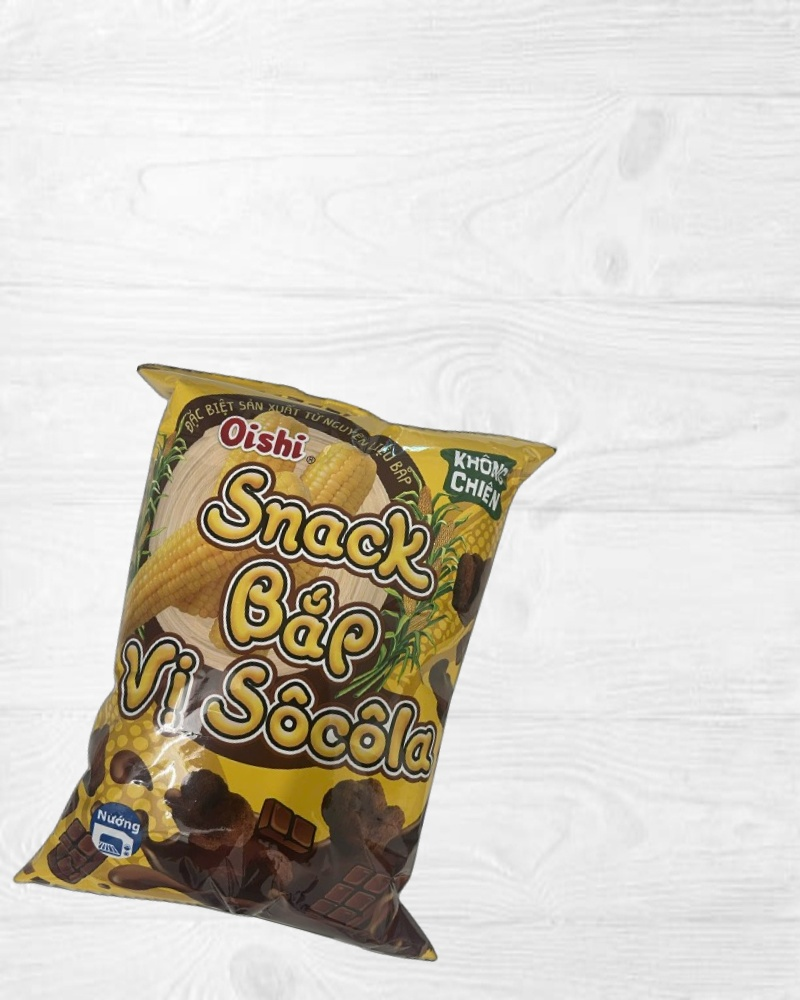Snack socola: (6, 342, 572, 982)
